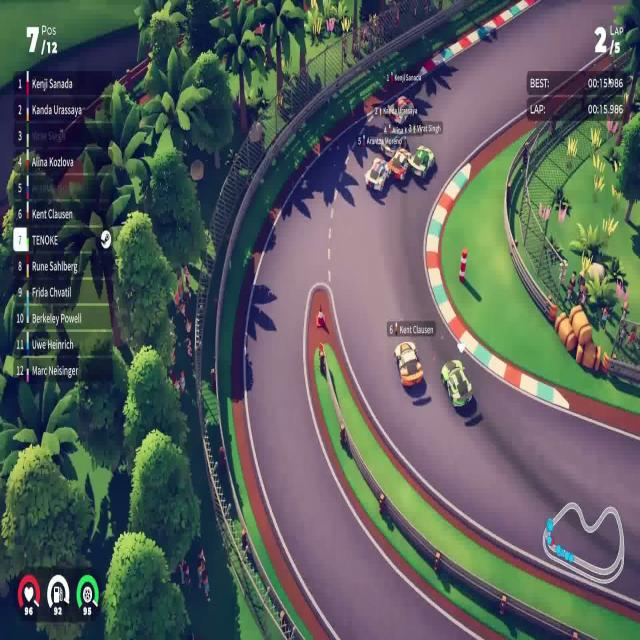car: (440, 358, 473, 411), (393, 339, 424, 388), (407, 144, 435, 180), (364, 156, 390, 193), (386, 146, 411, 182), (388, 95, 417, 126)
